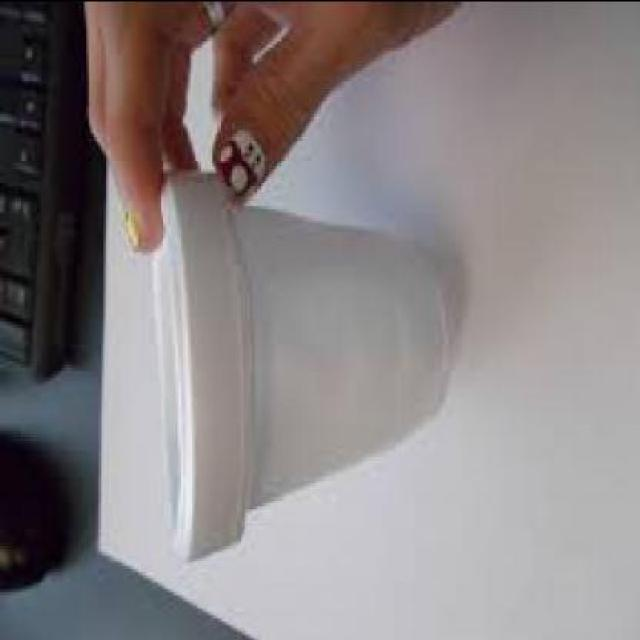PAPER: (99, 3, 638, 637), (151, 164, 447, 554)
